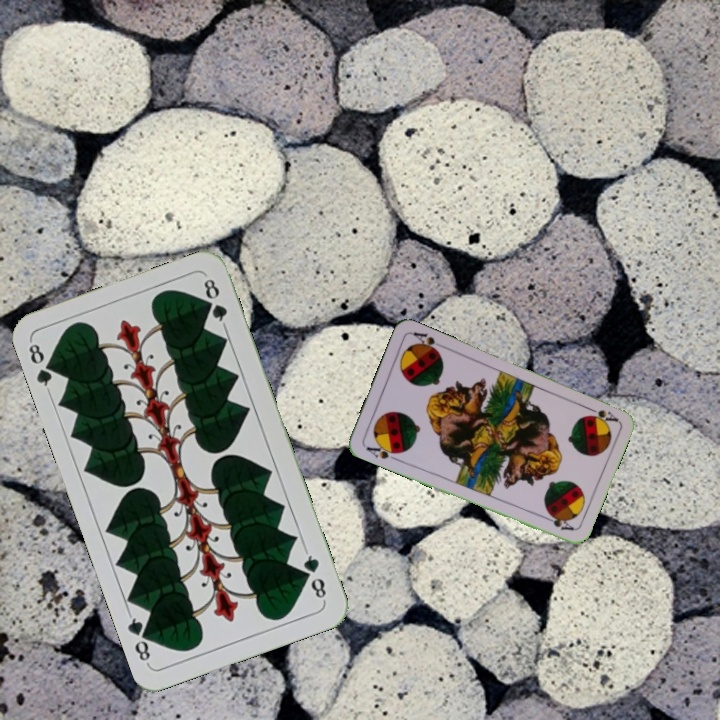G8: (24, 337, 60, 395), (299, 547, 329, 604)
SA: (362, 439, 402, 463), (581, 402, 621, 425)
